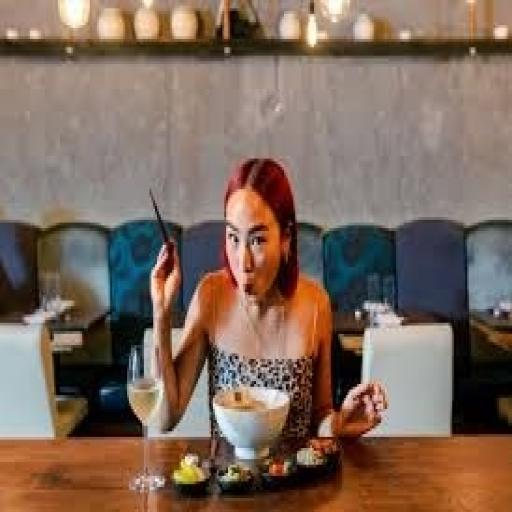eating: (146, 153, 388, 459)
